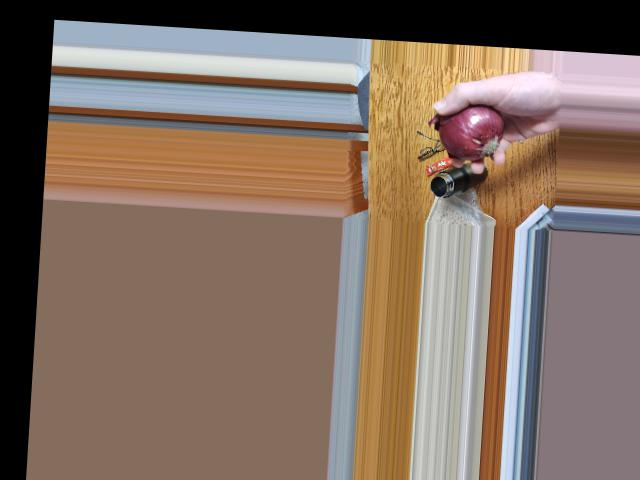onion: (440, 107, 495, 161)
